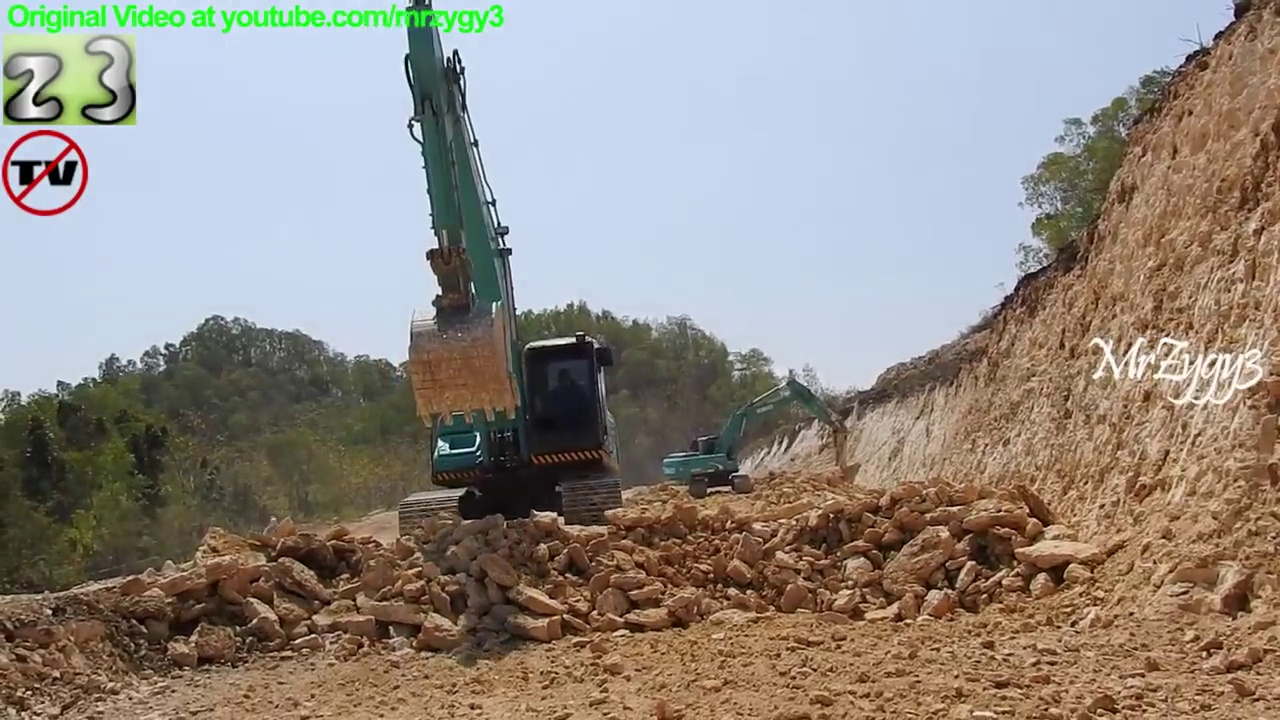excavator: (391, 1, 634, 550)
excavator breaker: (660, 374, 855, 502)
